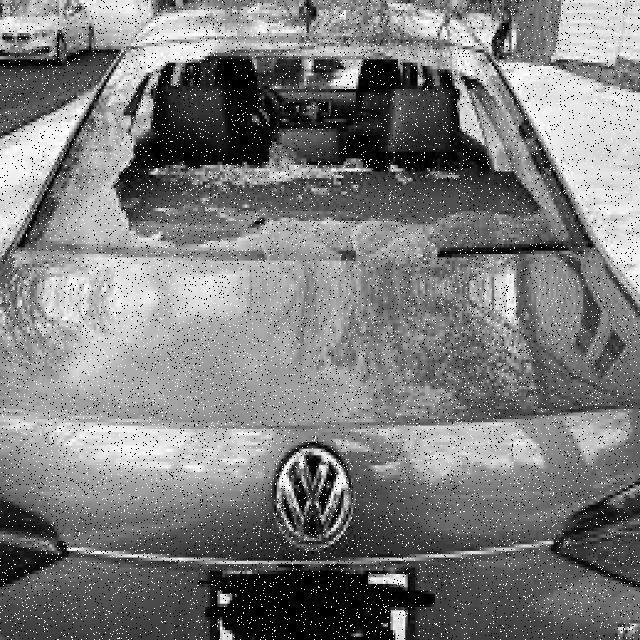Rear-windscreen-Damage: (1, 0, 604, 326)
